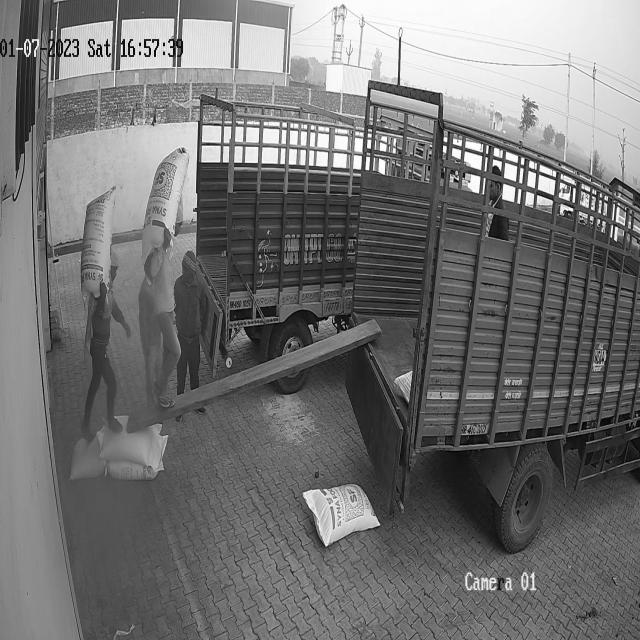sack: (141, 146, 190, 260), (303, 483, 381, 548), (79, 185, 116, 303), (98, 415, 162, 466), (105, 435, 168, 478), (69, 438, 106, 481)
